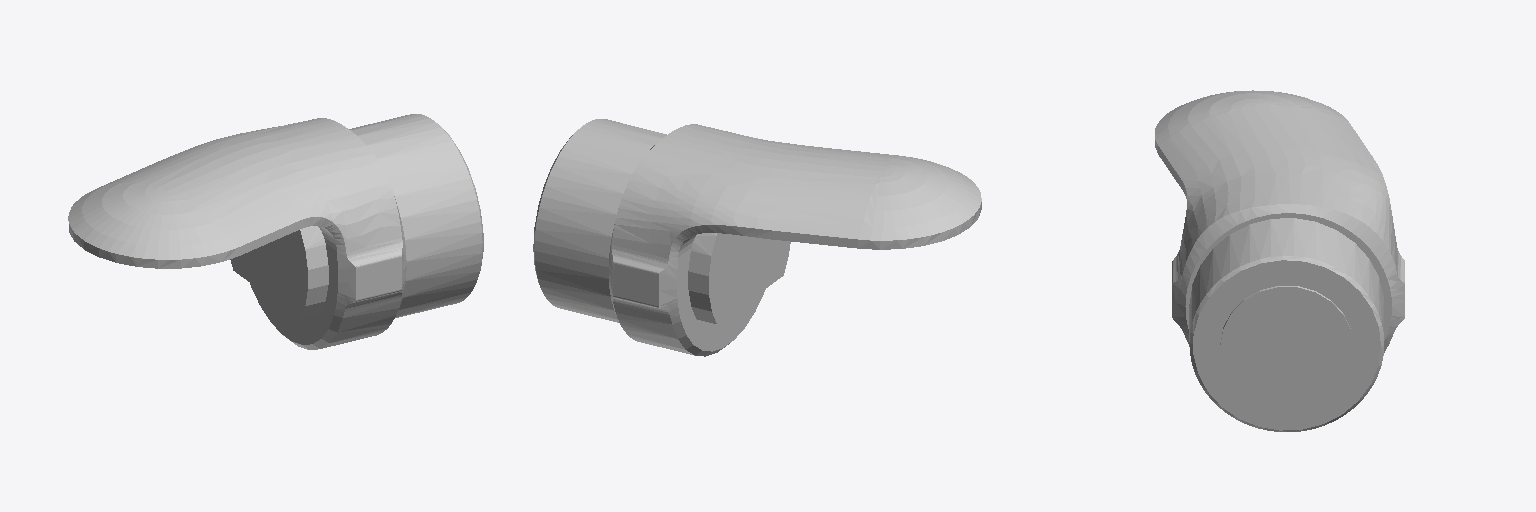
File: left_elbow_link_collisions.obj
3 views of the same model, side by side, from view 1: azimuth 30°, elevation 25°; view 2: azimuth 150°, elevation 25°; view 3: azimuth 270°, elevation 25° (orthographic).
Size of the model in its own units: 0.1298 by 0.066 by 0.0752.